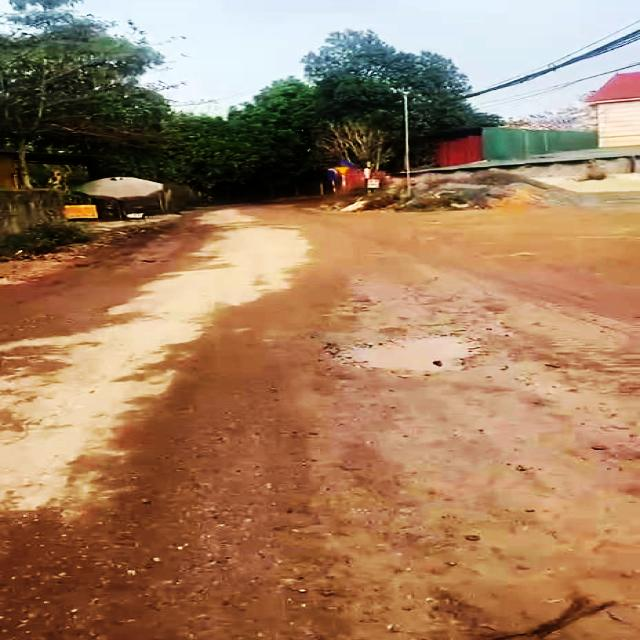pothole: (326, 332, 484, 375)
